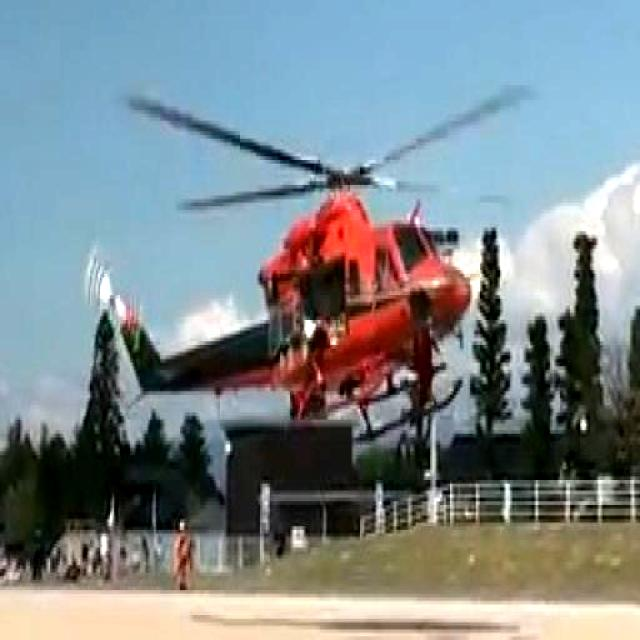drone: (71, 62, 541, 524)
